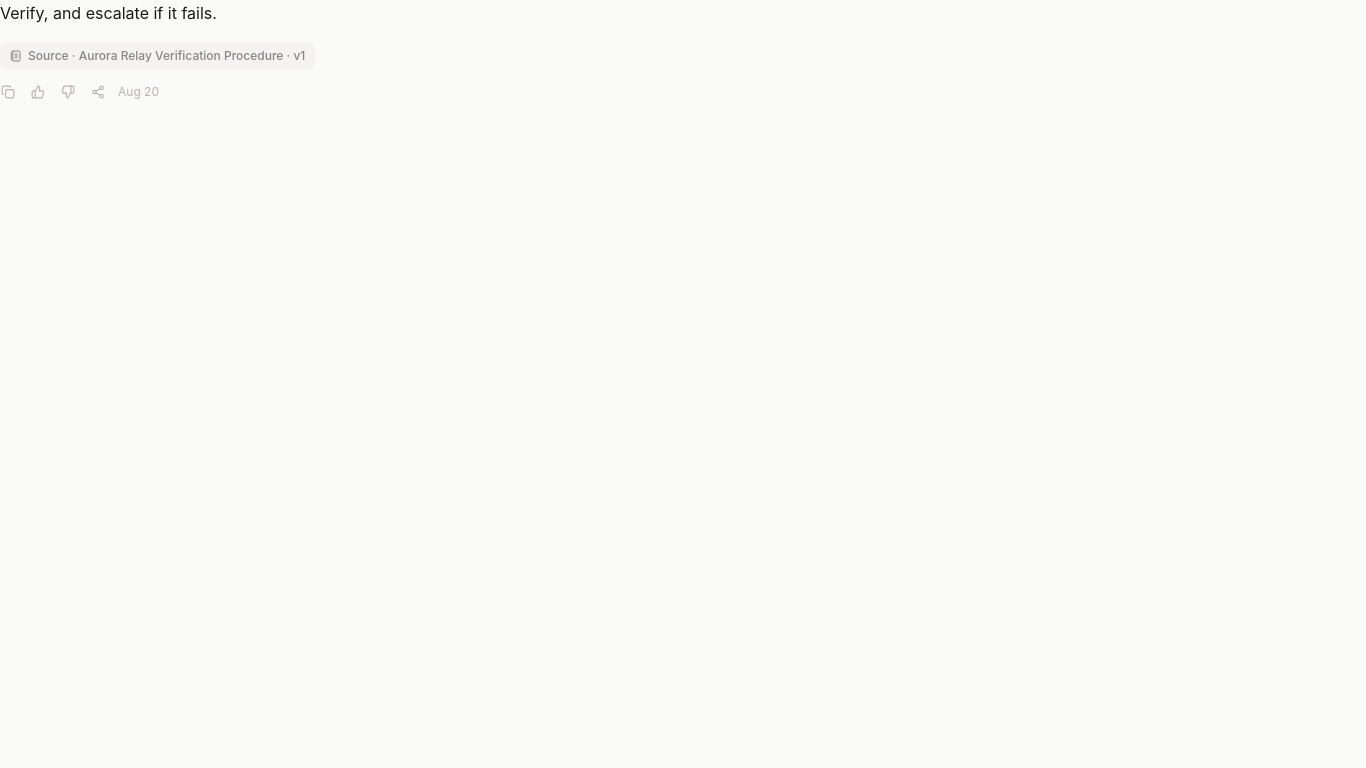
Test: Message + AppState — B7 corrective pass: historical Source/Knowledge-source rehydration › 2. two governed-KM references from the same document+version consolidate into ONE chip covering both matched sections after hydration (POST-A5 refinement, Track
This screenshot has width=1366, height=768.
What coordinates should you click on to do the following:
click the button "Source · Aurora Relay Verification Procedure · v1"
I would click on:
 (158, 56)
Its box is [0, 42, 315, 70].
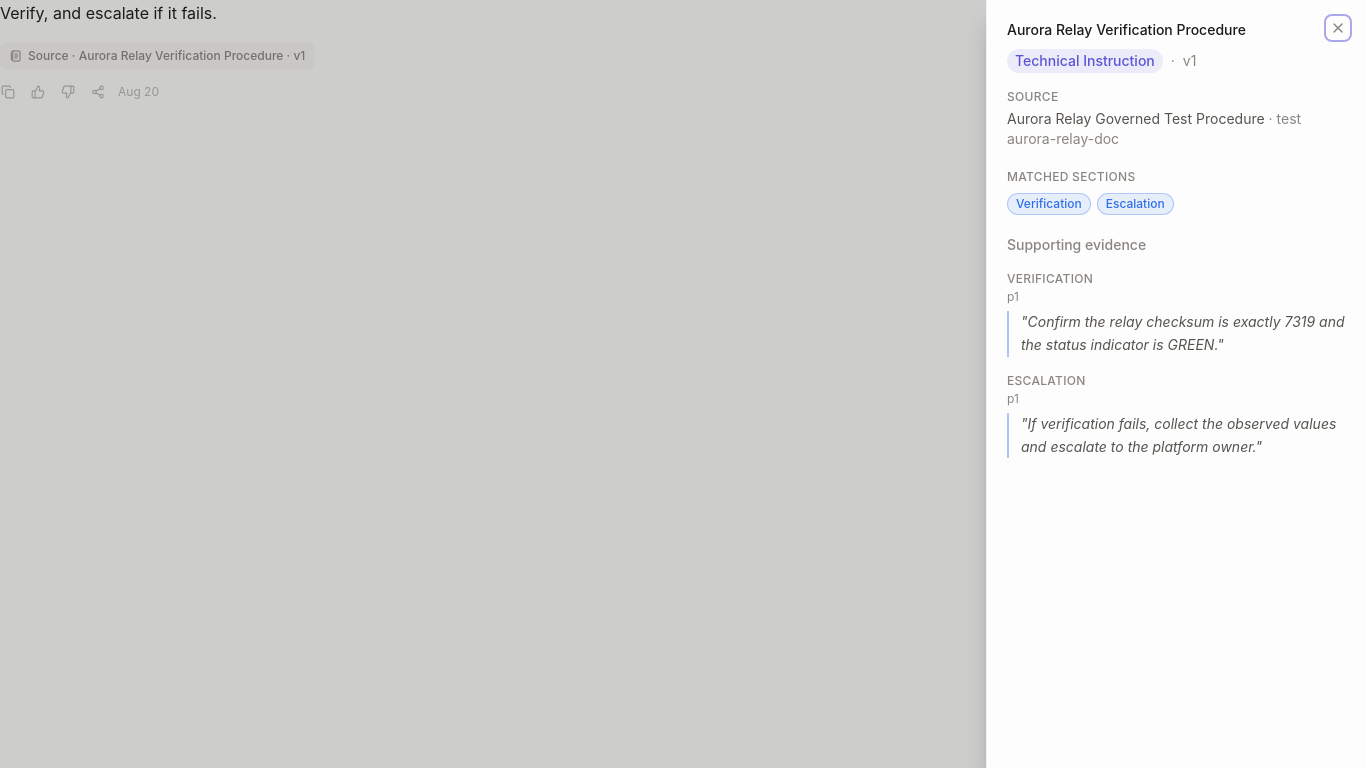
Check: the text "Verification" below "Matched sections" is shown, box [1016, 196, 1082, 211]
Check: the text "Escalation" below "Matched sections" is shown, box [1106, 196, 1165, 211]
